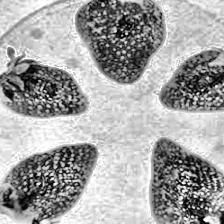Anthracnose Fruit Rot: (17, 170, 59, 208), (21, 74, 64, 102), (184, 68, 224, 98), (176, 191, 214, 222), (109, 12, 142, 41)
